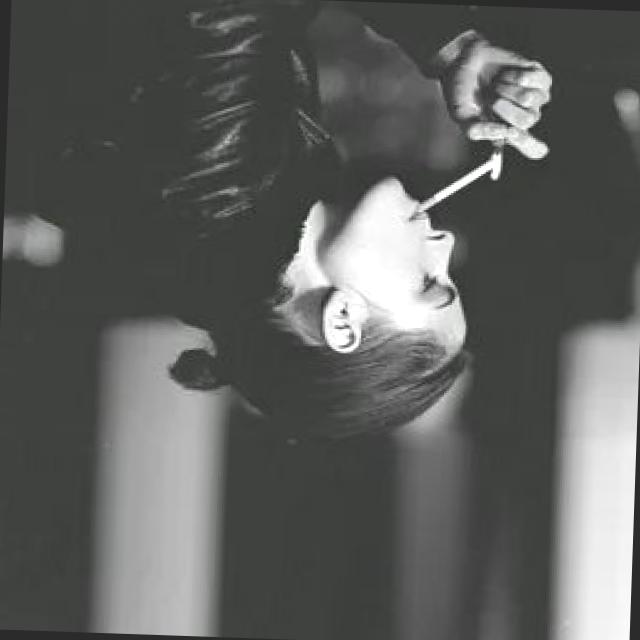smoke: (410, 152, 508, 222)
